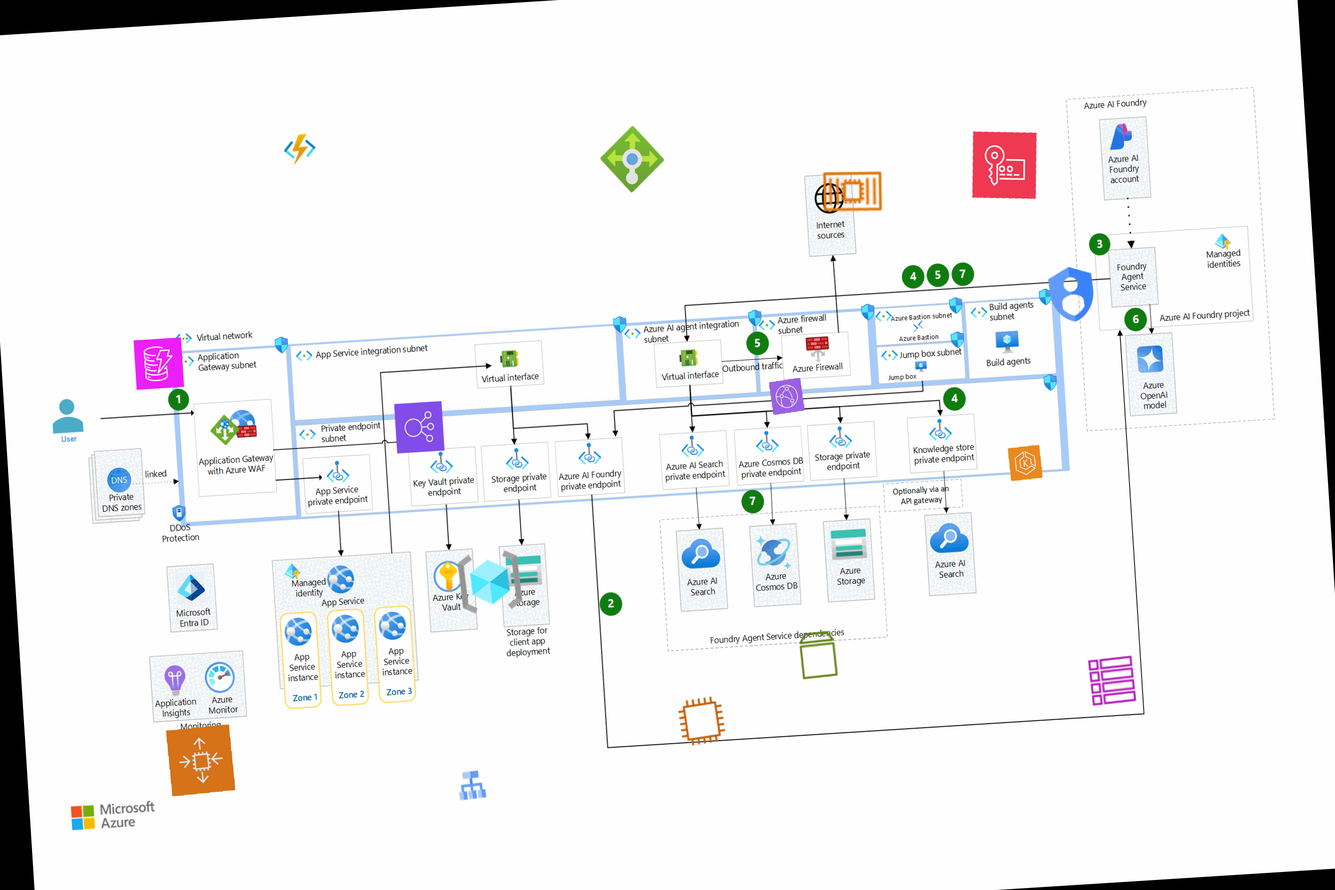aws_amazon_cloudfront: (768, 377, 805, 415)
aws_amazon_dynamodb: (133, 337, 184, 390)
aws_amazon_ec2_auto_scaling: (165, 724, 236, 797)
aws_amazon_elastic_kubernetes_service: (1007, 444, 1043, 481)
aws_dynamodb_table: (1085, 652, 1139, 708)
aws_ec2_instance: (674, 693, 729, 749)
aws_elastic_block_store_volume: (791, 627, 845, 683)
aws_elastic_container_service_container_2: (817, 154, 888, 228)
aws_elastic_load_balancing: (393, 400, 445, 454)
aws_key_management_service: (968, 127, 1040, 202)
azure_function_apps: (282, 130, 317, 167)
azure_load_balancers: (595, 121, 669, 197)
azure_resource_groups: (454, 545, 526, 619)
gcp_cloud_load_balancing: (454, 766, 489, 803)
gcp_identity_and_access_management: (1035, 256, 1108, 332)
